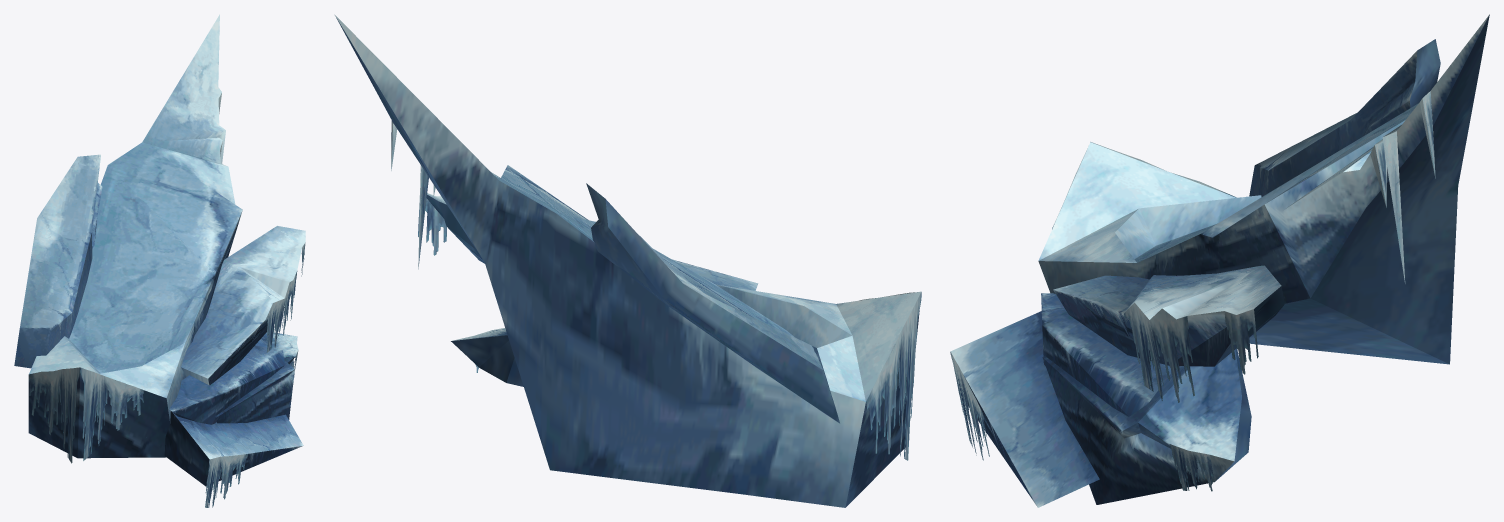
File: bs_binshan_11.FBX
3 renders of one model, left to right at view 1: azimuth 30°, elevation 25°; view 2: azimuth 150°, elevation 25°; view 3: azimuth 270°, elevation 25°, orthographic. The views are drawn at different scales.
Parts seen in each view (by area): view 1: bs_binshan_11; view 2: bs_binshan_11; view 3: bs_binshan_11.
Boxes of the visible parts, x1=… form: bs_binshan_11: x1=14, y1=14, x2=305, y2=507; bs_binshan_11: x1=334, y1=14, x2=921, y2=507; bs_binshan_11: x1=950, y1=14, x2=1489, y2=507.
Bounding box in the file's own units: 3278 × 3792 × 3221.
